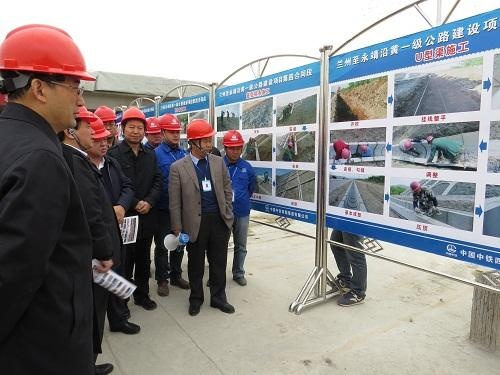red: (5, 21, 86, 129), (181, 117, 217, 157), (64, 104, 93, 151), (121, 106, 146, 145), (87, 112, 107, 157), (94, 103, 117, 139), (158, 113, 182, 147), (220, 129, 245, 161), (142, 115, 163, 145)
